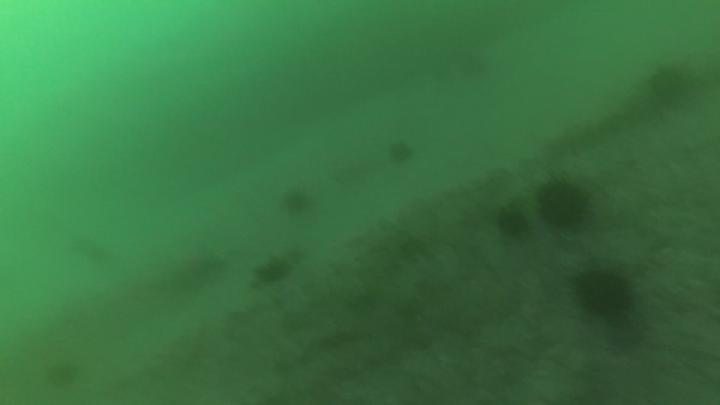echinus: (570, 263, 634, 327), (535, 179, 593, 235), (644, 63, 691, 110), (252, 252, 297, 288), (42, 359, 85, 395), (495, 204, 532, 238), (278, 186, 312, 216), (385, 138, 415, 169)
